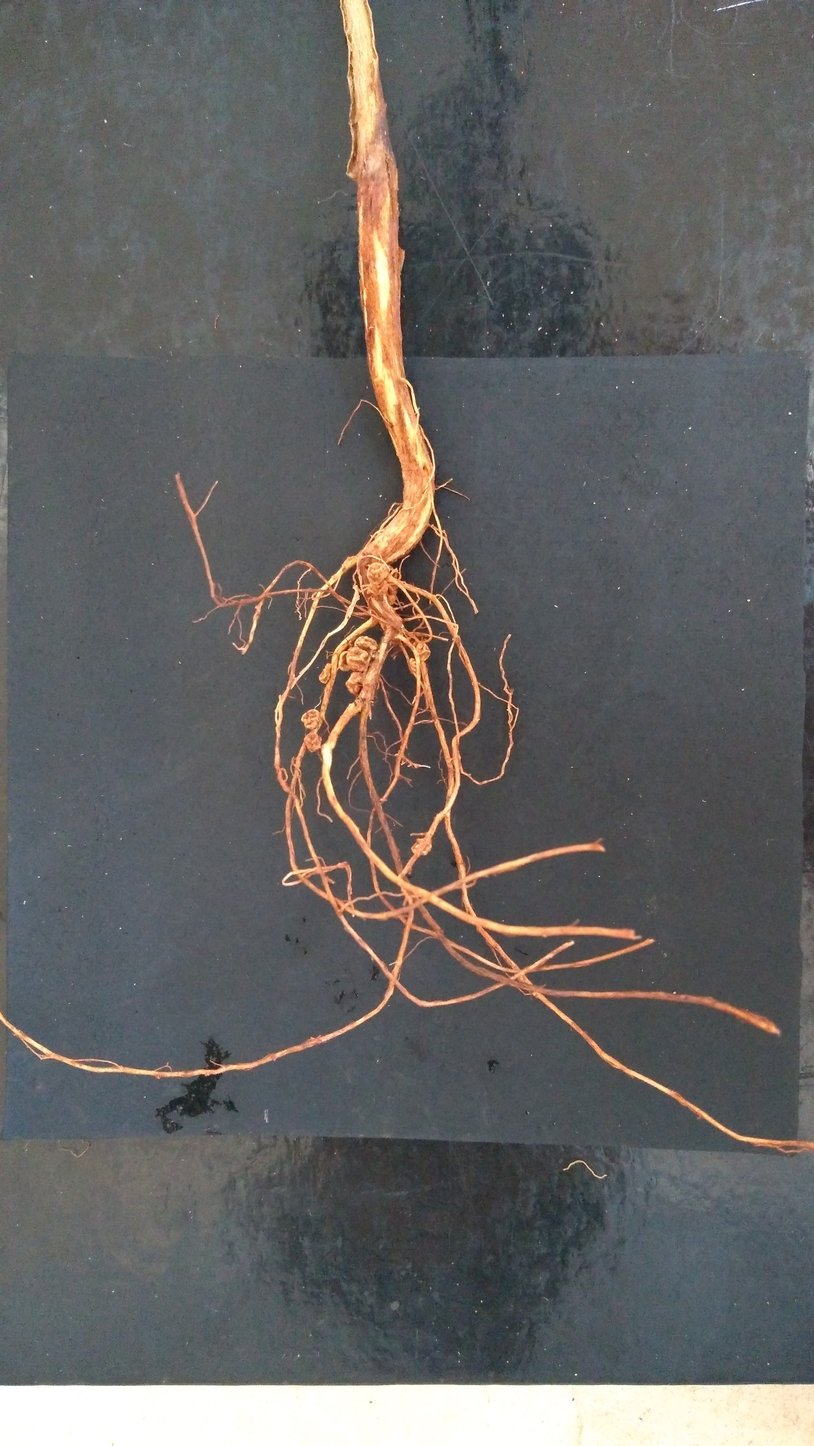nodule: (367, 562, 398, 605), (338, 647, 370, 672), (354, 636, 378, 659), (345, 671, 365, 696), (301, 709, 323, 730), (411, 640, 431, 662), (411, 837, 432, 856), (304, 731, 322, 753), (319, 663, 332, 684), (409, 658, 419, 672)
